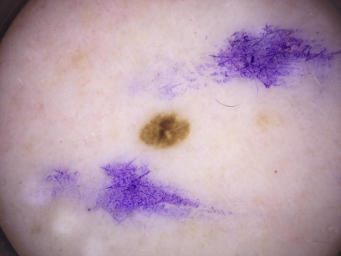nevus: (139, 113, 191, 147)
